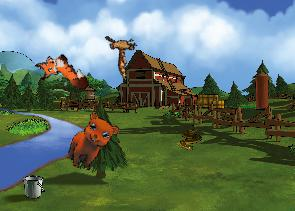bear: (63, 109, 122, 177)
eagle: (93, 23, 150, 82)
fox: (31, 44, 92, 105)
